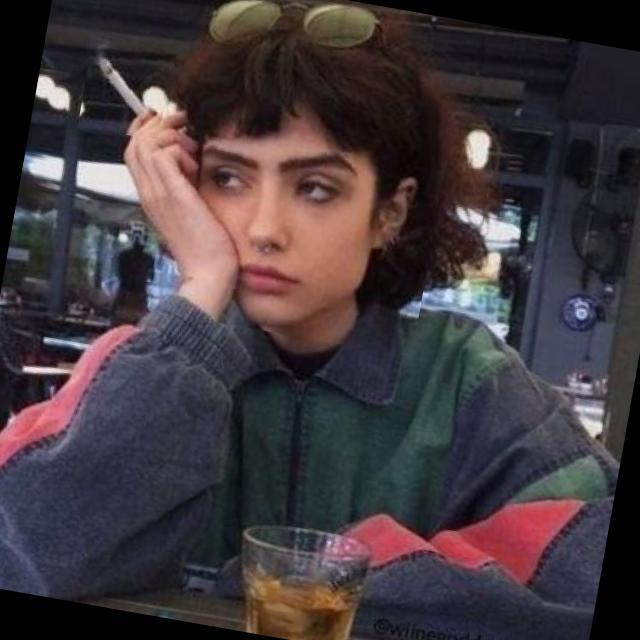cigarette: (76, 36, 178, 144)
